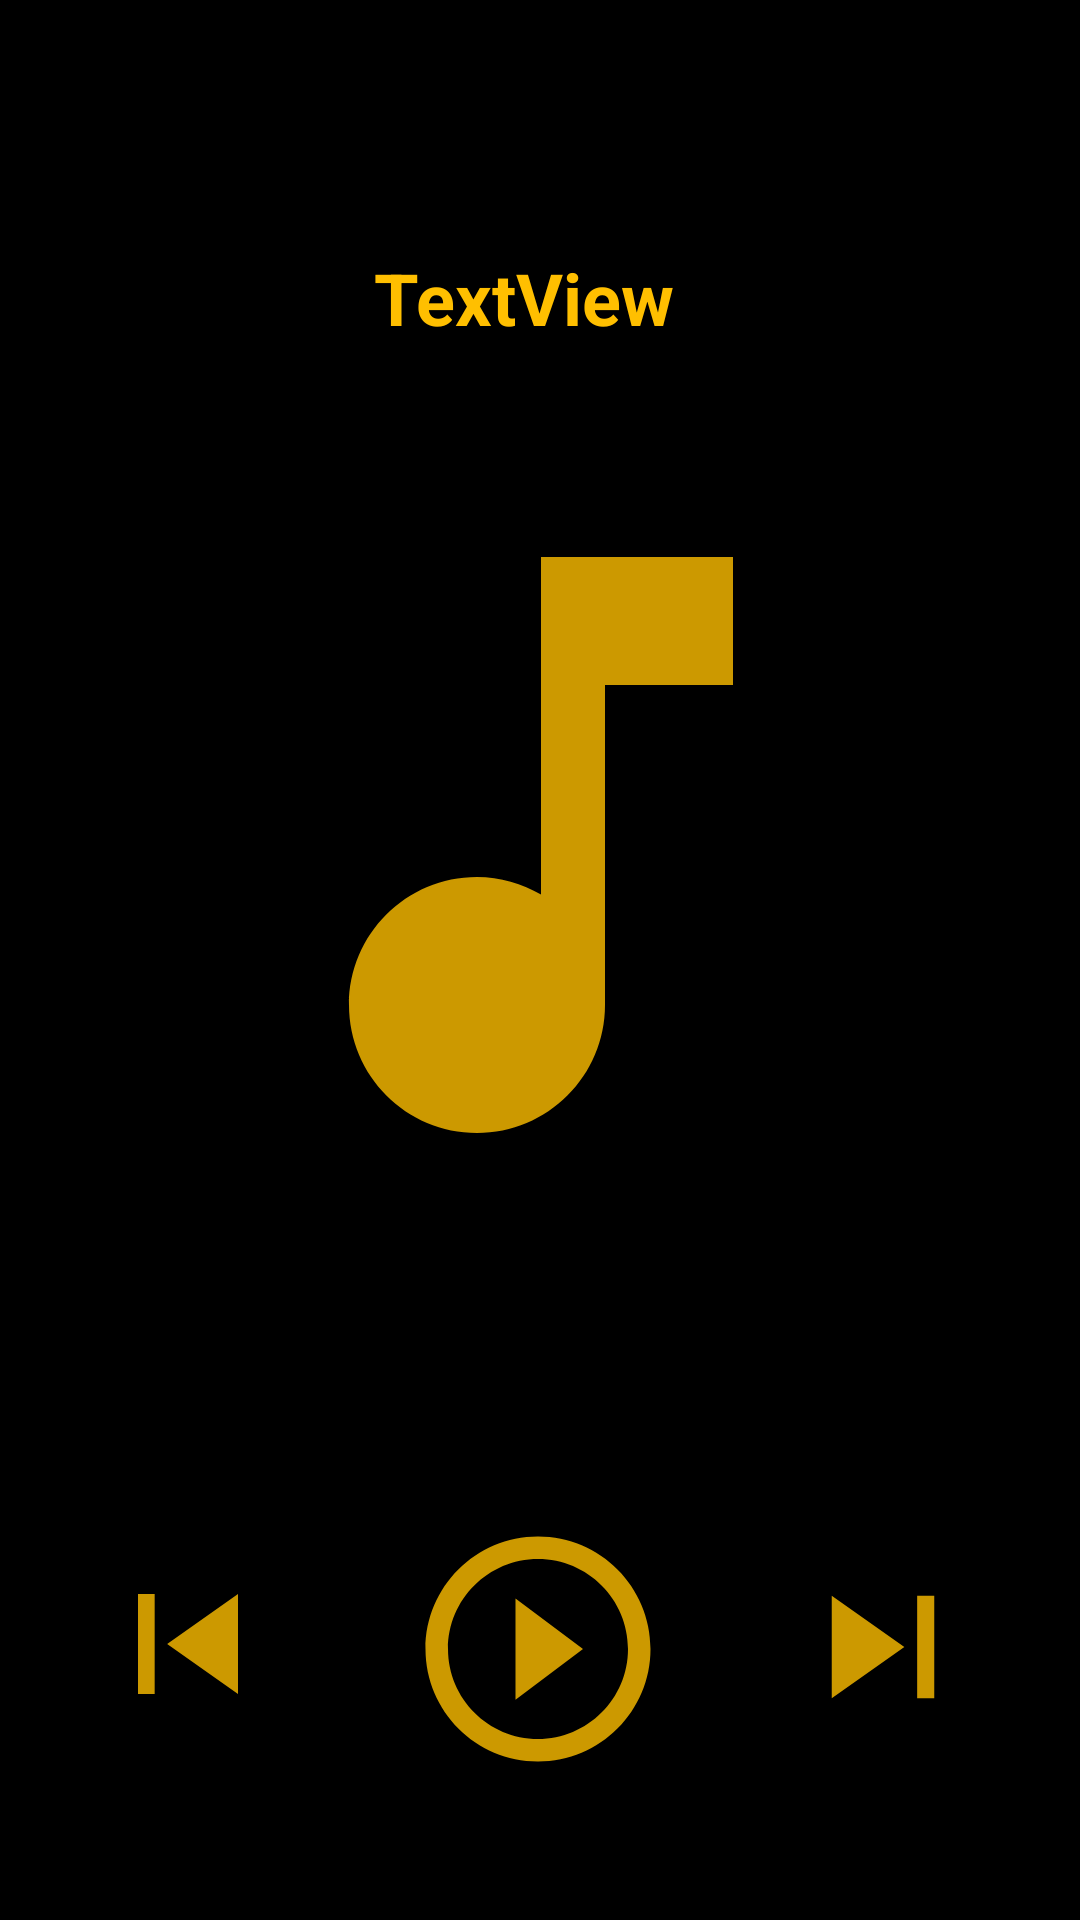

Screen size 1080 × 1920. Icon name, then its box in pixels as (x1=x1, y1=y1, x2=x2, y2=y2):
next: (x1=831, y1=1595, x2=935, y2=1699)
play: (x1=425, y1=1536, x2=651, y2=1762)
previous: (x1=138, y1=1594, x2=238, y2=1694)
